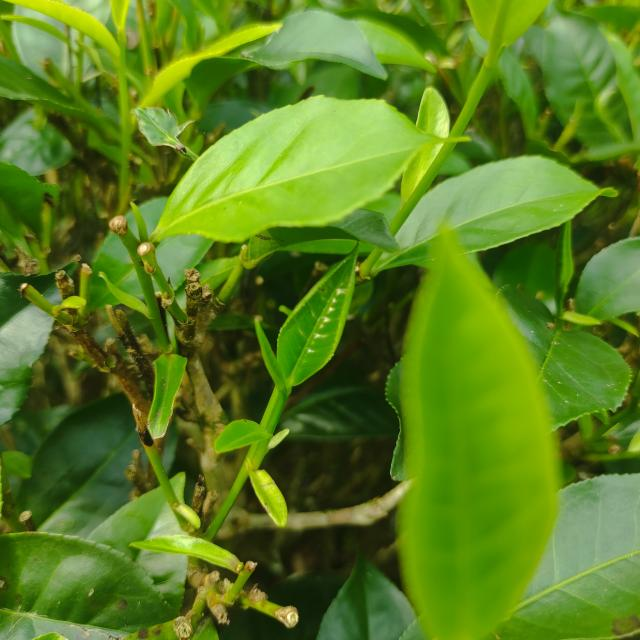unopened_leaf: (248, 314, 292, 399), (555, 218, 576, 302), (124, 196, 153, 248)
